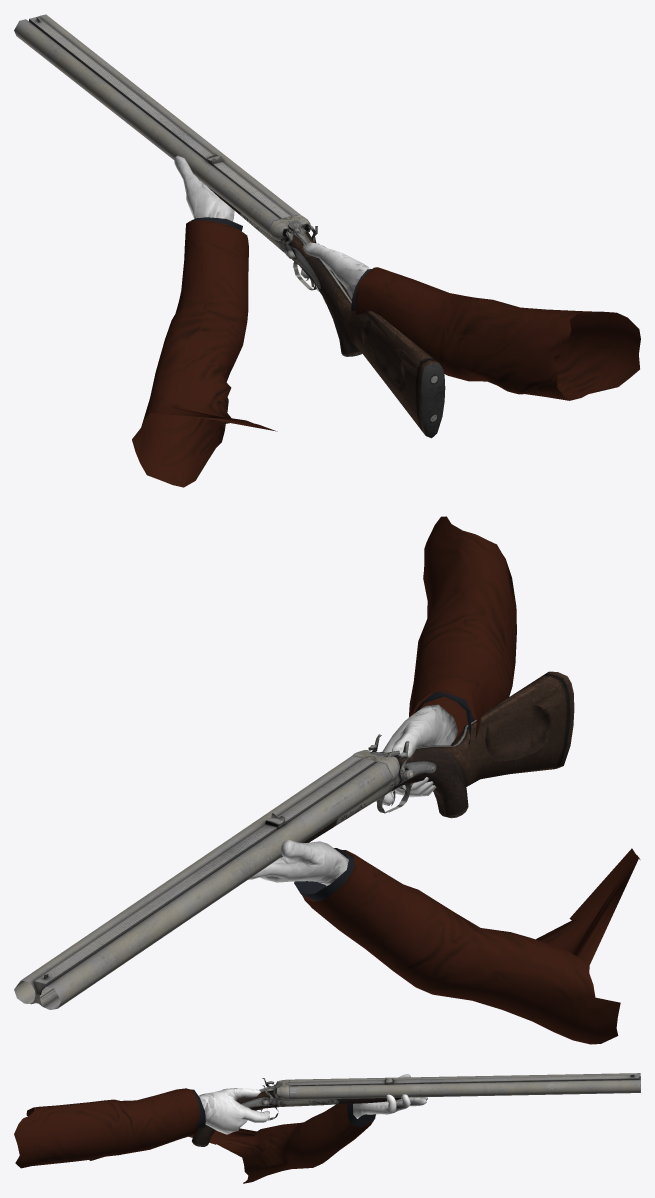
Rendered from frame_14.obj.
3 views of the same model, one above another, from view 1: azimuth 30°, elevation 25°; view 2: azimuth 150°, elevation 25°; view 3: azimuth 270°, elevation 25° (orthographic). The views are drawn at different scales.
Parts seen in each view (by area): view 1: PlayerModelMerged.001_PlayerModelMerged, double_-_barreled_shotgun_L_double_-_barreled_shotgun_LP_к.001; view 2: PlayerModelMerged.001_PlayerModelMerged, double_-_barreled_shotgun_L_double_-_barreled_shotgun_LP_к.001; view 3: PlayerModelMerged.001_PlayerModelMerged, double_-_barreled_shotgun_L_double_-_barreled_shotgun_LP_к.001.
Part boxes in pixels (box(x1,y1,x2,y2)): PlayerModelMerged.001_PlayerModelMerged: box(132, 155, 640, 487); double_-_barreled_shotgun_L_double_-_barreled_shotgun_LP_к.001: box(14, 14, 445, 438); PlayerModelMerged.001_PlayerModelMerged: box(248, 516, 640, 1044); double_-_barreled_shotgun_L_double_-_barreled_shotgun_LP_к.001: box(14, 671, 574, 1009); PlayerModelMerged.001_PlayerModelMerged: box(14, 1074, 427, 1183); double_-_barreled_shotgun_L_double_-_barreled_shotgun_LP_к.001: box(89, 1073, 640, 1160).
Size of the model in its own units: 0.8331 by 0.5465 by 2.
